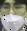mask_weared_incorrect: (1, 1, 27, 31)
